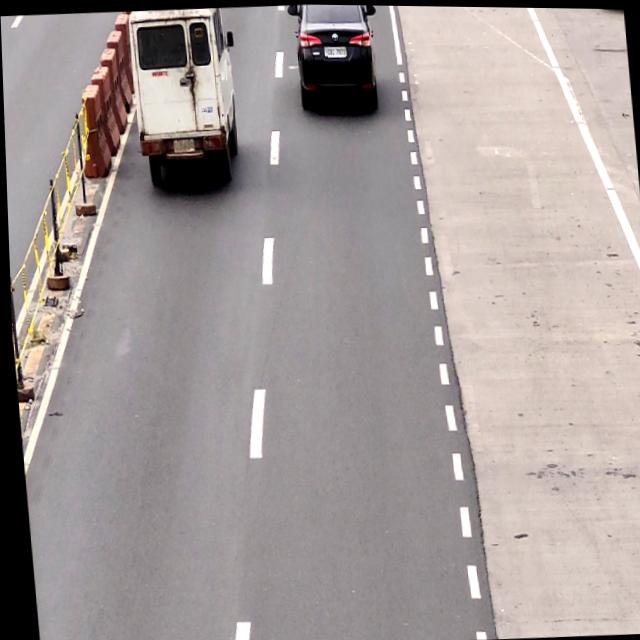Car: (126, 6, 241, 186), (289, 3, 381, 115)
License-Plate: (168, 134, 197, 155), (323, 42, 349, 63)
